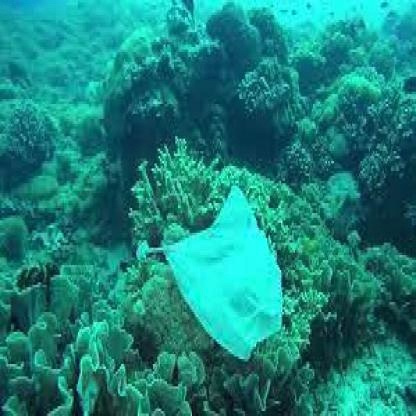pbag: (136, 181, 284, 364)
